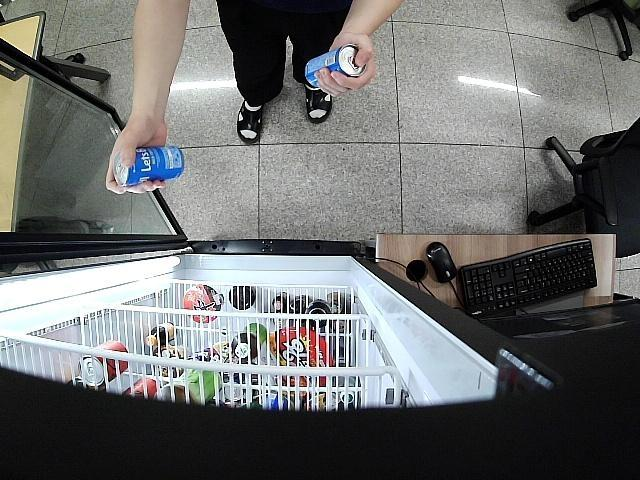15_letsbe: (114, 144, 184, 187), (304, 47, 365, 90)
